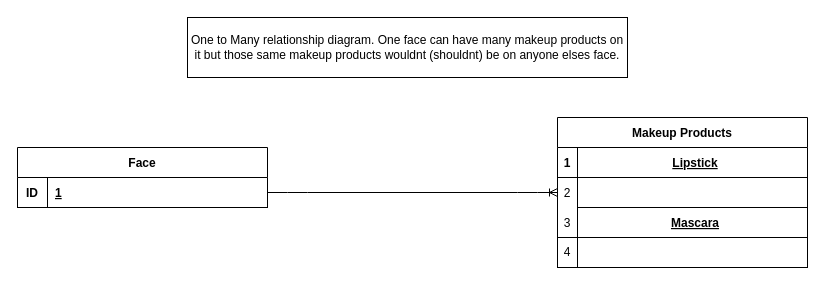
Some shapes in this 825 by 285 pixel diagram are drawn without their labels. Each missing label, with the box of its shape:
Eyeshadow: (556, 236, 808, 268)
Foundation: (576, 176, 808, 208)
